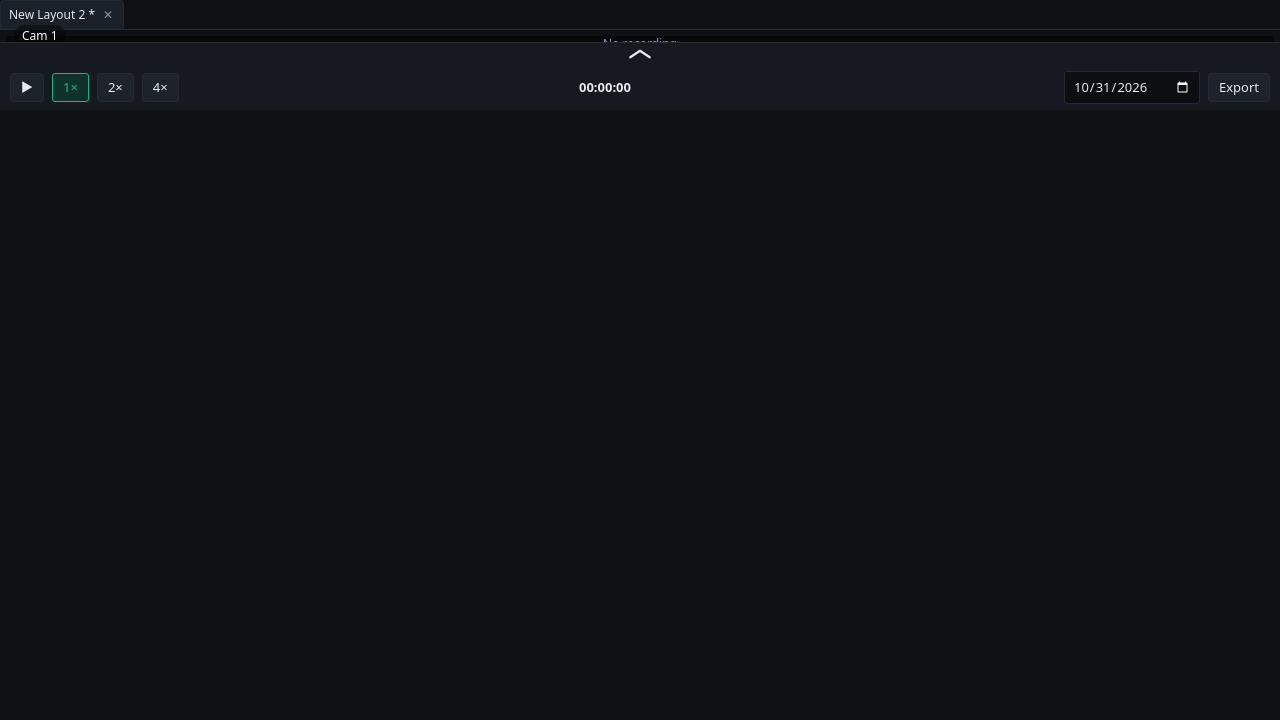
Test: ArchiveView (playback stage + Bottom Sheet) › the Export button of the sheet opens the export dialog
Click the button "Export": x=1239, y=87 top-left (1208, 73), bottom-right (1270, 102)
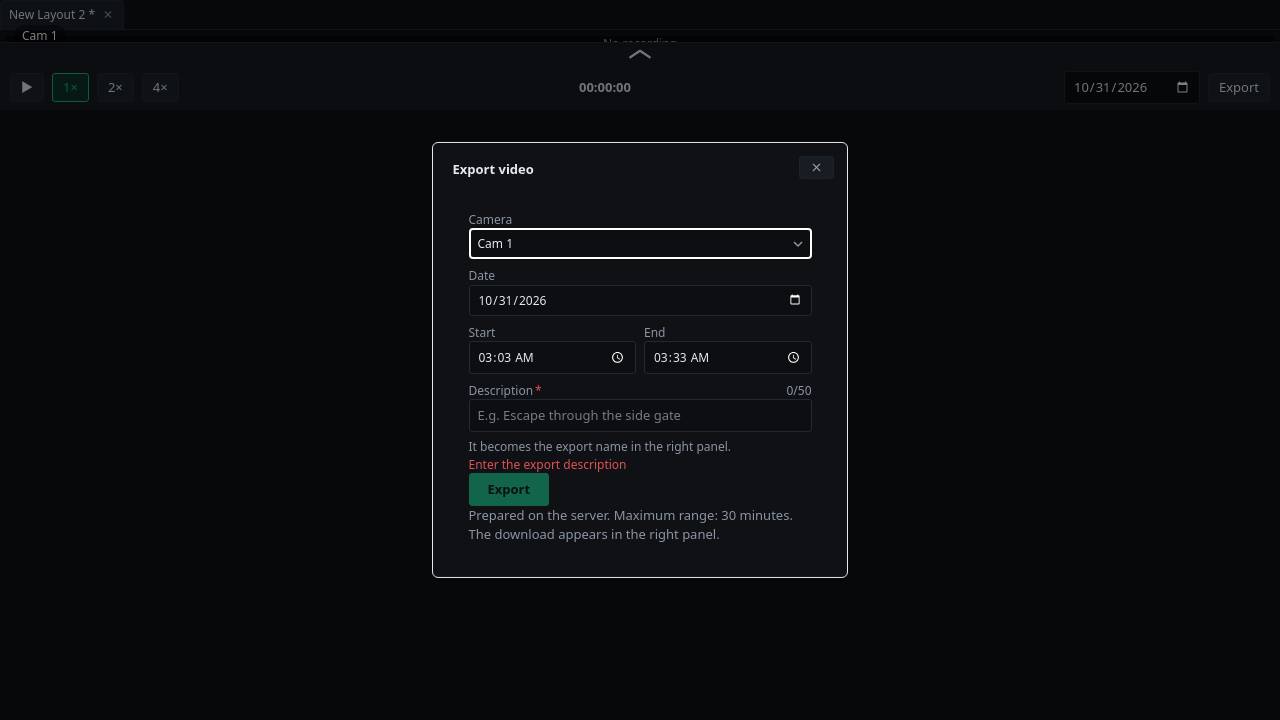
Now the dialog is shown, box top-left (432, 142), bottom-right (848, 578)
Now the heading "Export video" is shown, box top-left (452, 160), bottom-right (534, 178)
Now the dropdown labelled "Camera" shows "Cam 1", box top-left (468, 228), bottom-right (812, 259)
